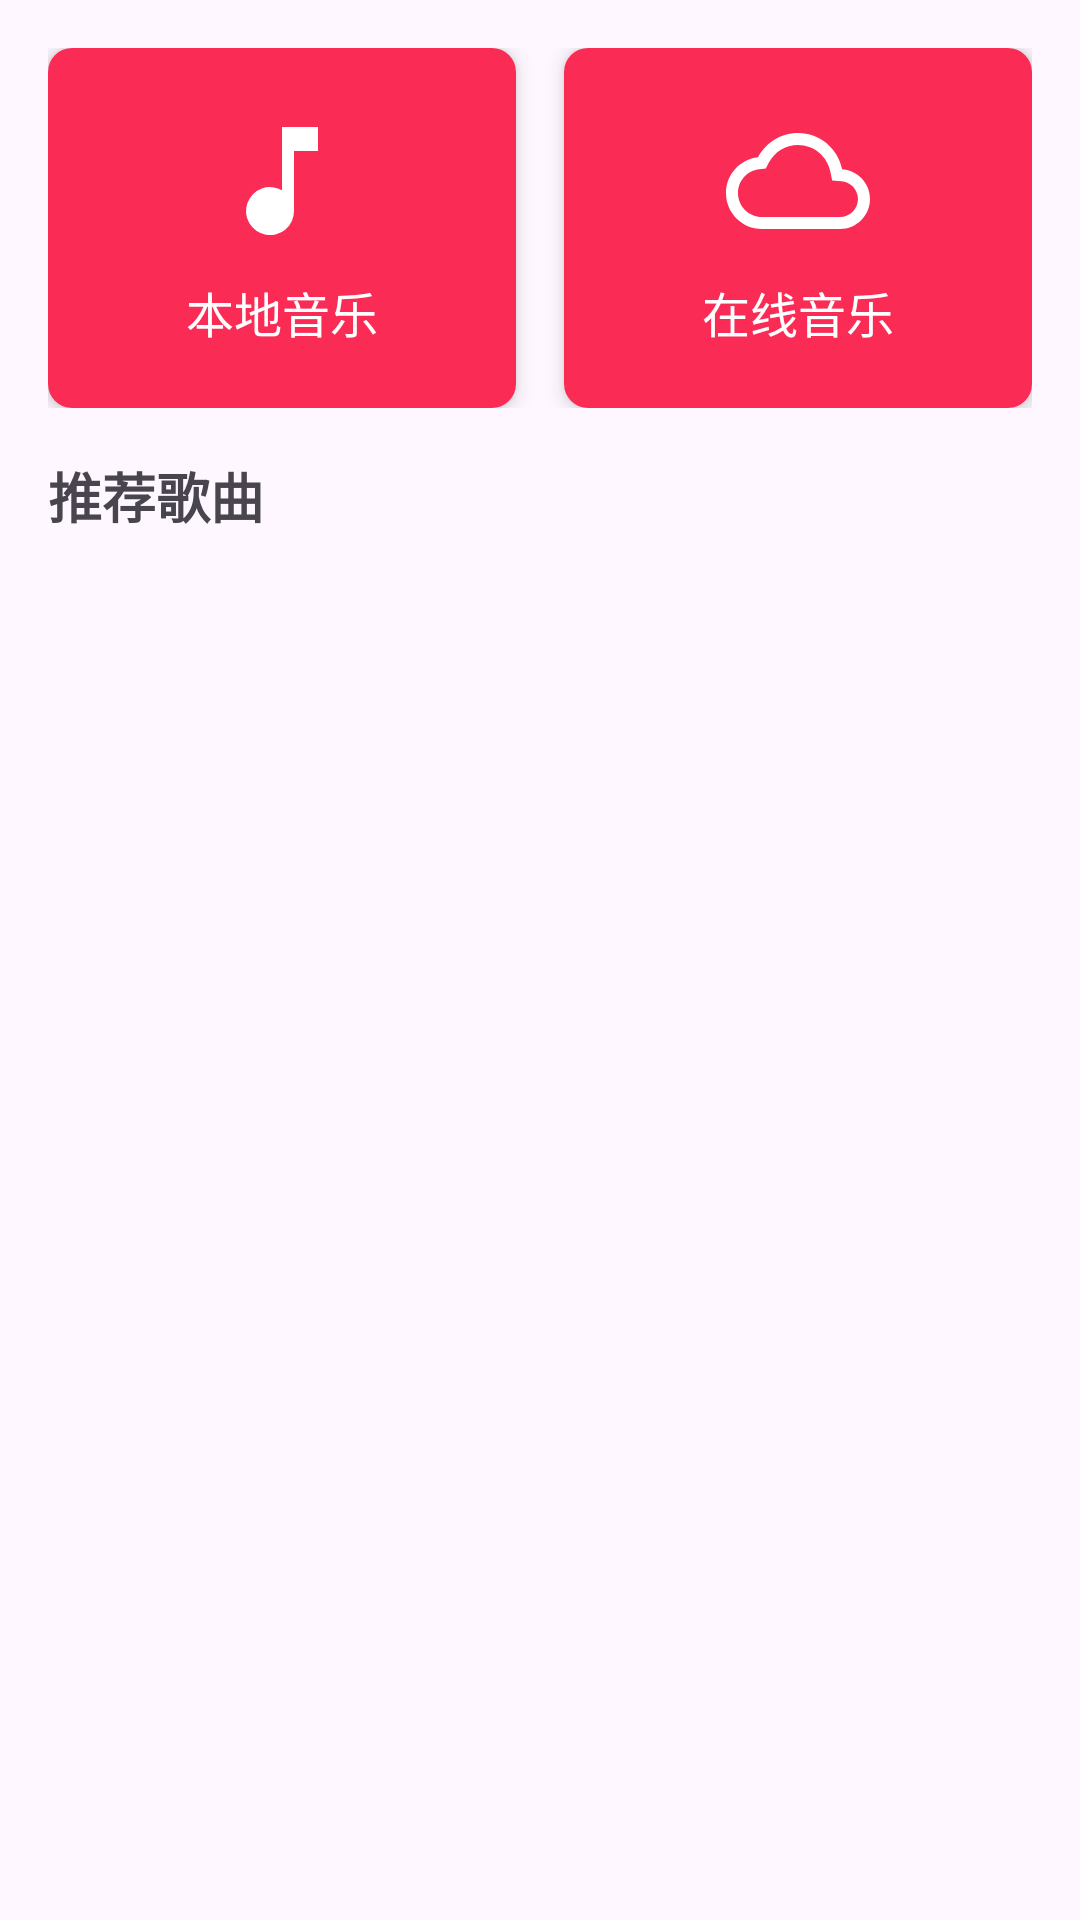

Icons on this 1080px x 1920px Android screen, each with the point to tap as [x,y]:
cloud: [798,181]
music note: [282,181]
